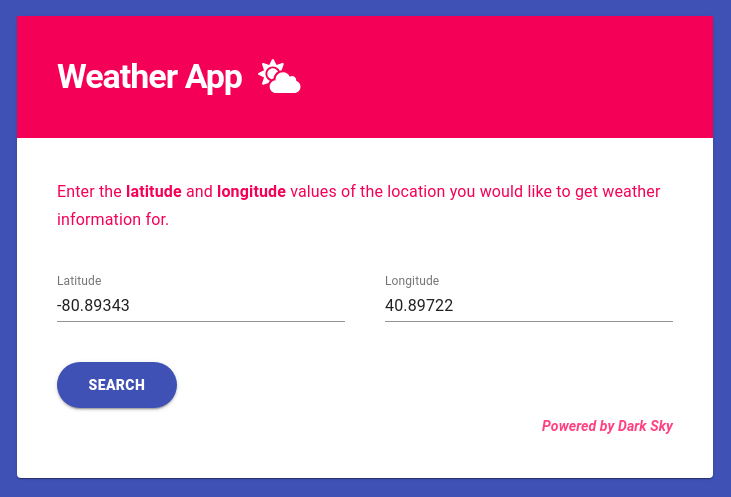
Test case: <App /> › Error message renders correctly
Click the button with test id "link".
click(117, 385)  # box [57,362,177,408]
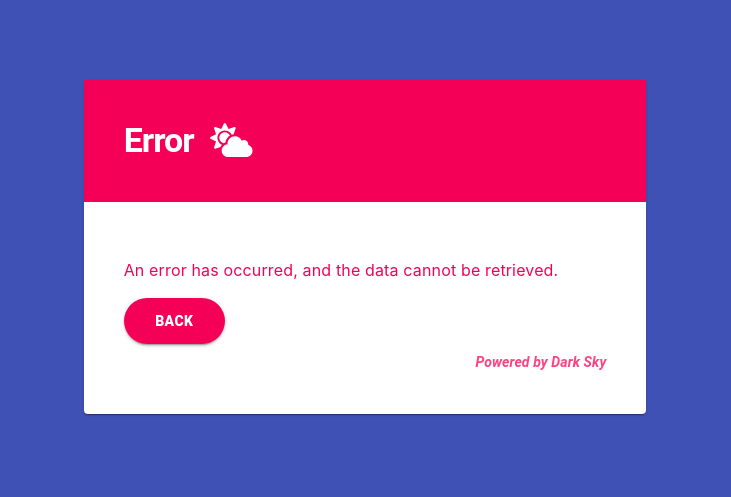
expect the heading "Error" is shown: met, box [124,120,252,160]
expect the text "An error has occurred, and the data cannot be retrieved." is shown: met, box [124,258,606,282]
